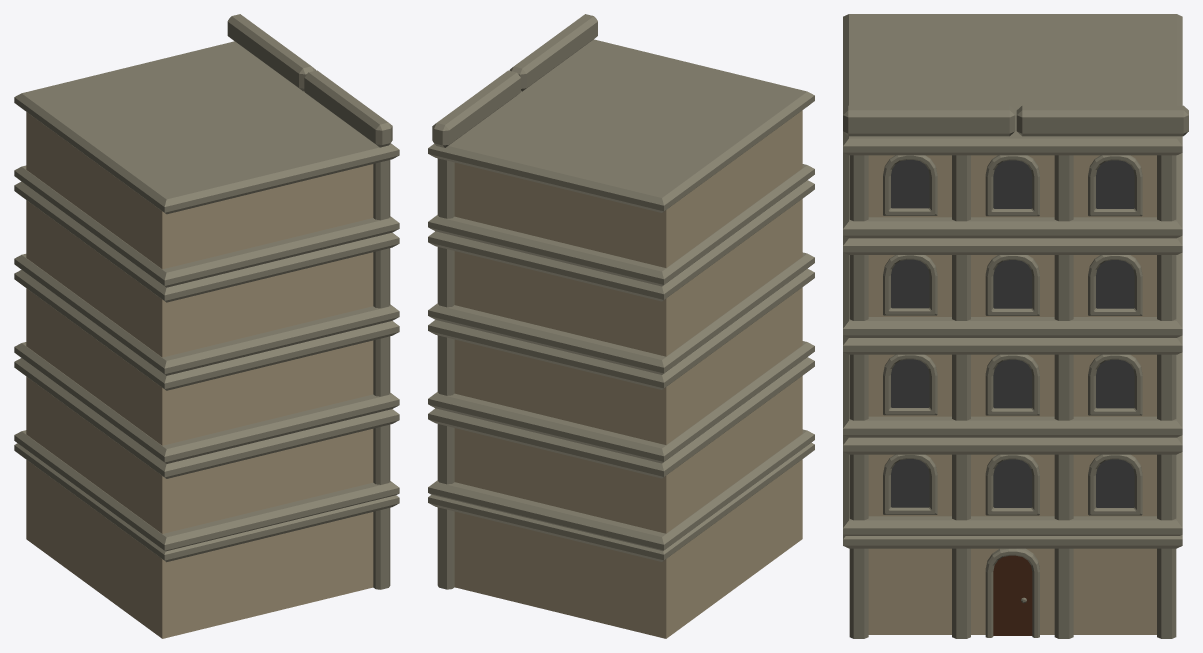
File: Edi_Alto_Ama.fbx
3 renders of one model, left to right at view 1: azimuth 30°, elevation 25°; view 2: azimuth 150°, elevation 25°; view 3: azimuth 270°, elevation 25°, orthographic. The views are drawn at different scales.
Visible parts, largest first — view 1: Cube.072, Cube.073, Cube.075; view 2: Cube.072, Cube.073, Cube.075; view 3: Cube.072, Cube.073, Cube.075, Cube.085, Cube.074.
Boxes of the visible parts, x1,y1,x2,y2 form: Cube.072: [14, 41, 399, 551]; Cube.073: [14, 443, 399, 638]; Cube.075: [227, 14, 392, 147]; Cube.072: [428, 39, 814, 550]; Cube.073: [428, 442, 814, 638]; Cube.075: [432, 14, 597, 147]; Cube.072: [843, 14, 1182, 535]; Cube.073: [843, 535, 1182, 638]; Cube.075: [843, 105, 1188, 136]; Cube.085: [993, 555, 1032, 635]; Cube.074: [985, 548, 1039, 637].
Size of the model in its own units: 3819 by 7232 by 4307.
